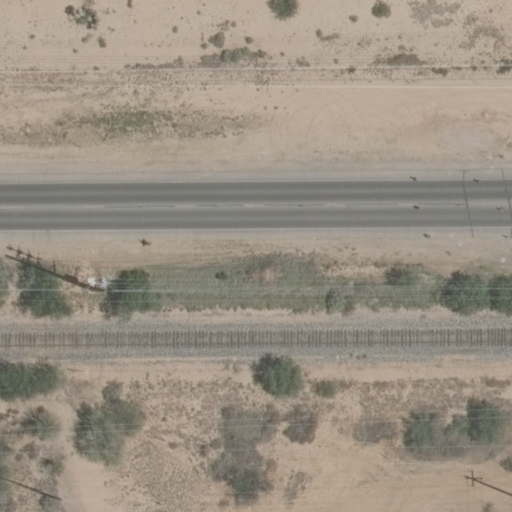DT: (84, 266, 113, 293)
